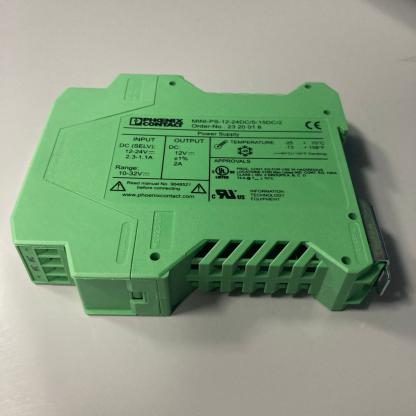SP0000011: (0, 31, 416, 378)
